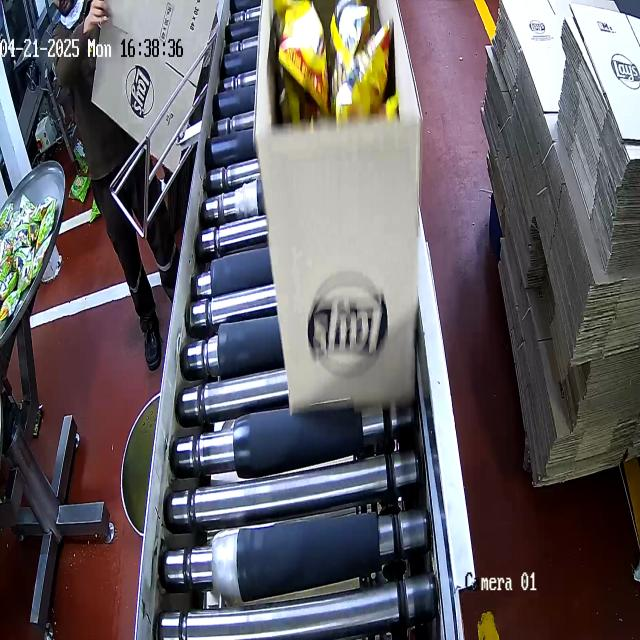SALTED: (271, 16, 401, 124)
